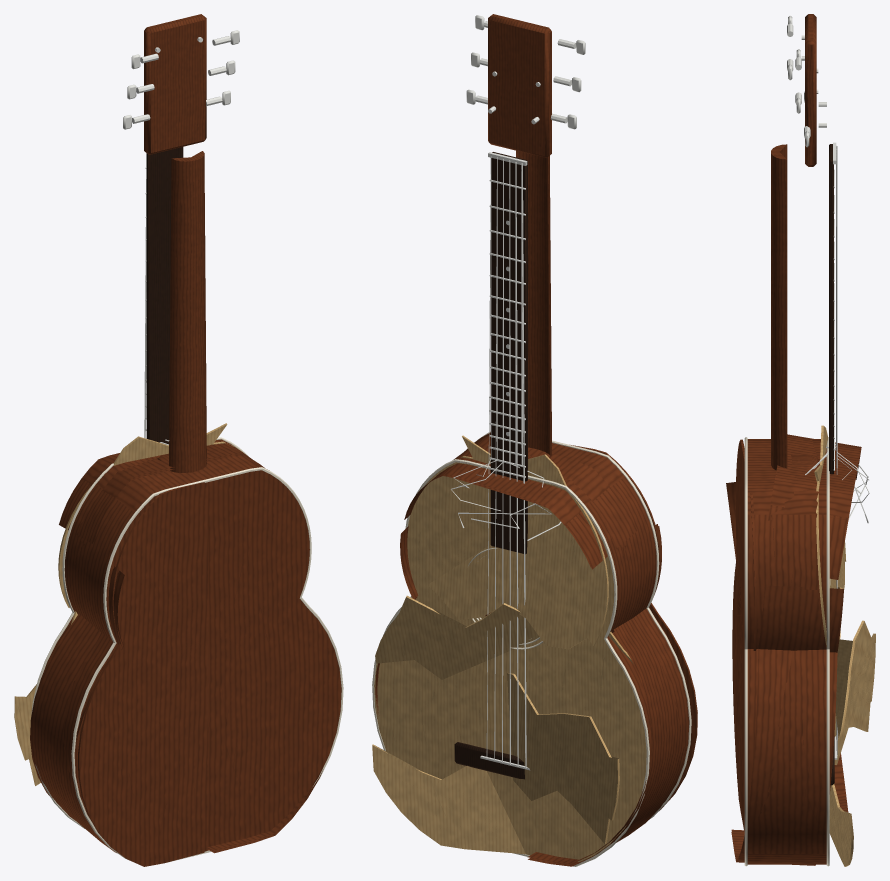
The model's file is guitar.glb.
3 views of the same model, side by side, from view 1: azimuth 30°, elevation 25°; view 2: azimuth 150°, elevation 25°; view 3: azimuth 270°, elevation 25° (orthographic). The views are drawn at different scales.
Visible parts, largest first — view 1: Guitar_Broken, Guitar_Clean_body, Guitar_Clean_neck, Guitar_Clean_board, Guitar_Clean_trim, Guitar_Clean_tuners; view 2: Guitar_Broken, Guitar_Clean_top, Guitar_Clean_neck, Guitar_Clean_board, Guitar_Clean_body, Guitar_Clean_strings, Guitar_Clean_trim, Guitar_Broken_strings, Guitar_Clean_frets, Guitar_Clean_tuners, Guitar_Clean_bridge; view 3: Guitar_Broken, Guitar_Clean_body, Guitar_Clean_neck, Guitar_Clean_trim, Guitar_Clean_board, Guitar_Broken_strings, Guitar_Clean_tuners, Guitar_Clean_strings, Guitar_Clean_frets.
Part boxes in pixels (x1=…): Guitar_Broken: x1=14, y1=423, x2=323, y2=866; Guitar_Clean_body: x1=43, y1=439, x2=341, y2=850; Guitar_Clean_neck: x1=144, y1=14, x2=206, y2=472; Guitar_Clean_board: x1=146, y1=147, x2=183, y2=444; Guitar_Clean_trim: x1=31, y1=437, x2=343, y2=862; Guitar_Clean_tuners: x1=123, y1=30, x2=239, y2=129; Guitar_Broken: x1=372, y1=432, x2=697, y2=866; Guitar_Clean_top: x1=374, y1=462, x2=646, y2=861; Guitar_Clean_neck: x1=488, y1=14, x2=551, y2=458; Guitar_Clean_board: x1=490, y1=152, x2=527, y2=554; Guitar_Clean_body: x1=453, y1=434, x2=689, y2=838; Guitar_Clean_strings: x1=486, y1=157, x2=526, y2=768; Guitar_Clean_trim: x1=372, y1=431, x2=691, y2=866; Guitar_Broken_strings: x1=451, y1=156, x2=561, y2=540; Guitar_Clean_frets: x1=480, y1=152, x2=530, y2=770; Guitar_Clean_tuners: x1=466, y1=15, x2=585, y2=129; Guitar_Clean_bridge: x1=454, y1=742, x2=524, y2=779; Guitar_Broken: x1=726, y1=425, x2=875, y2=866; Guitar_Clean_body: x1=747, y1=439, x2=826, y2=864; Guitar_Clean_neck: x1=771, y1=14, x2=818, y2=470; Guitar_Clean_trim: x1=744, y1=437, x2=830, y2=866; Guitar_Clean_board: x1=829, y1=144, x2=833, y2=474; Guitar_Broken_strings: x1=805, y1=146, x2=869, y2=523; Guitar_Clean_tuners: x1=787, y1=15, x2=826, y2=147; Guitar_Clean_strings: x1=836, y1=145, x2=837, y2=755; Guitar_Clean_frets: x1=833, y1=142, x2=837, y2=759.
Size of the model in its own units: 0.3858 by 1.09 by 0.1829.
6 materials, 3 textured.
